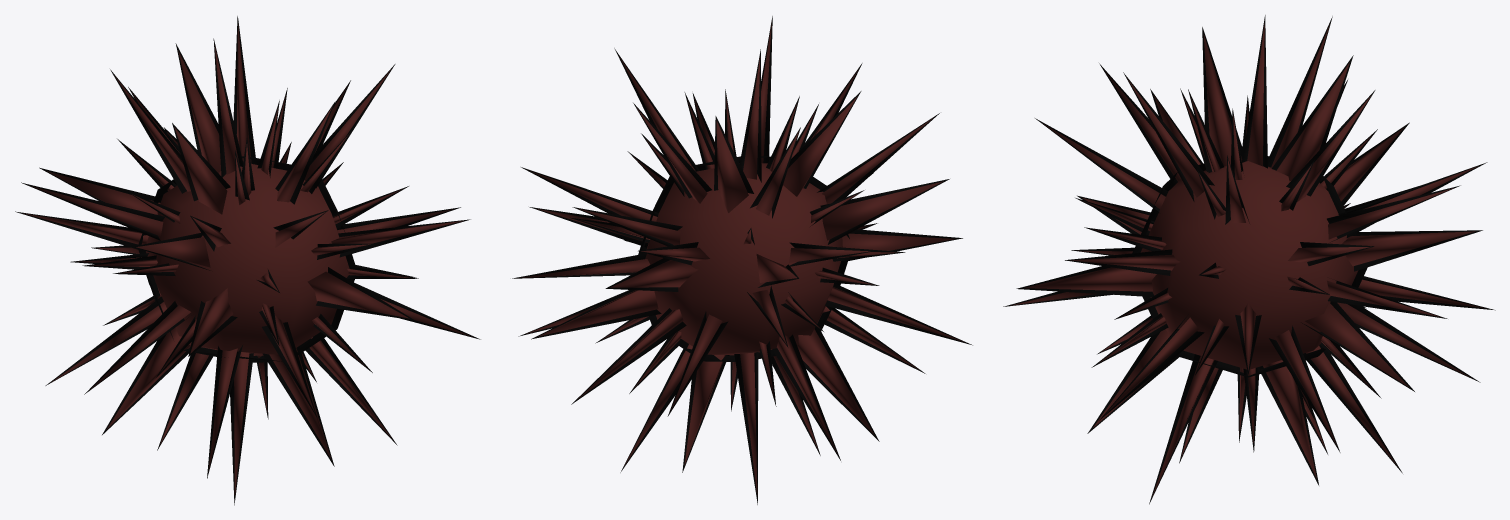
File: Sea_Urchin_Model.fbx
3 views of the same model, side by side, from view 1: azimuth 30°, elevation 25°; view 2: azimuth 150°, elevation 25°; view 3: azimuth 270°, elevation 25° (orthographic). The views are drawn at different scales.
Parts seen in each view (by area): view 1: Sea_Urchin; view 2: Sea_Urchin; view 3: Sea_Urchin.
Part boxes in pixels (x1,y1,x2,y2): Sea_Urchin: (15,16,480,505); Sea_Urchin: (512,16,972,504); Sea_Urchin: (1003,15,1495,504).
Bounding box in the file's own units: 6.34 × 6.19 × 6.37.
